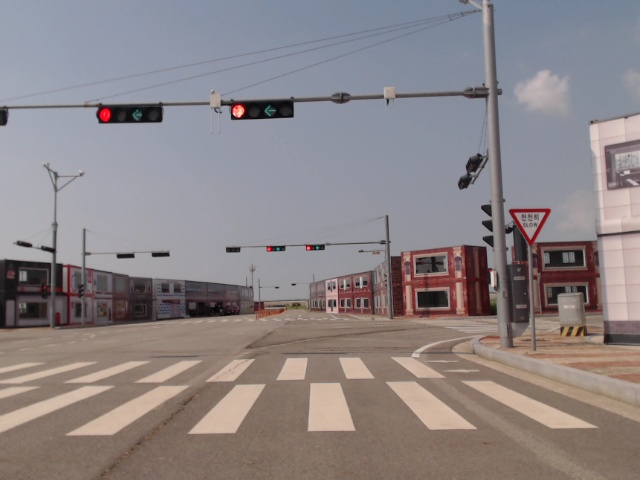left_green_4: (97, 106, 163, 125), (229, 102, 294, 121)
